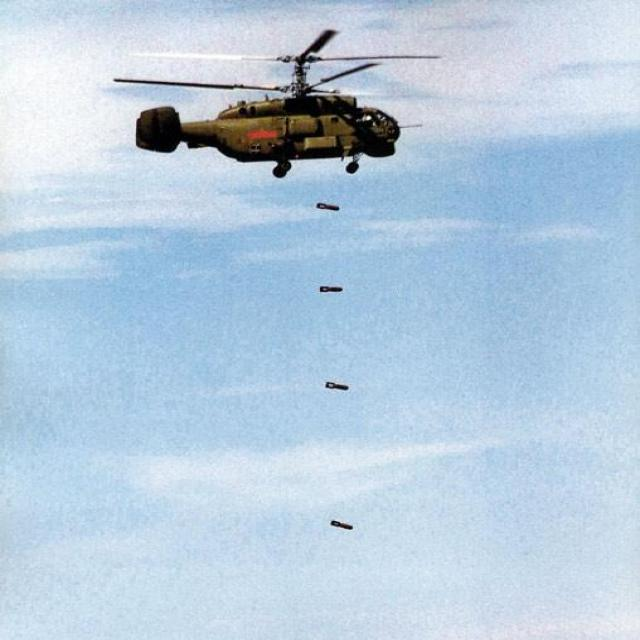MIL_HELO: (82, 29, 493, 185)
